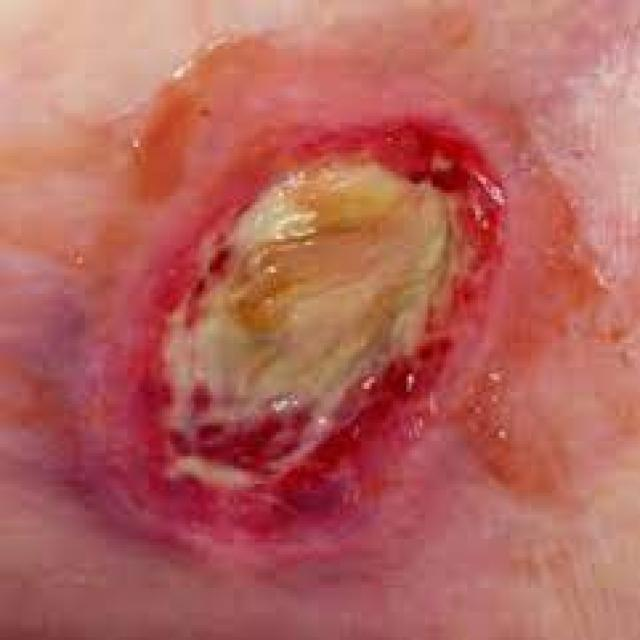Unstageable: (75, 116, 507, 546)
